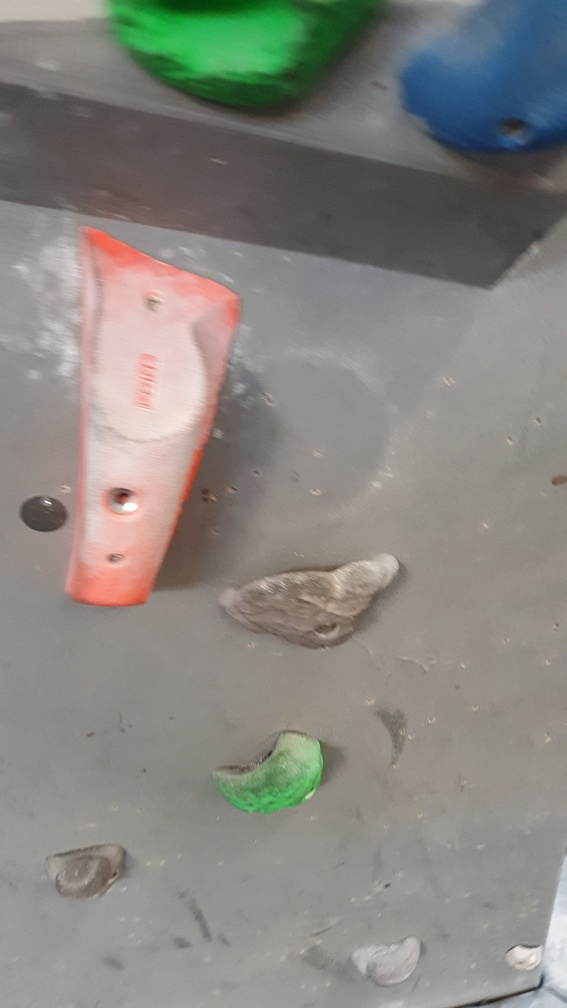Hand Start: (14, 490, 76, 537)
Jug: (219, 553, 402, 650), (205, 722, 329, 815)
Pinch: (60, 223, 242, 609)
